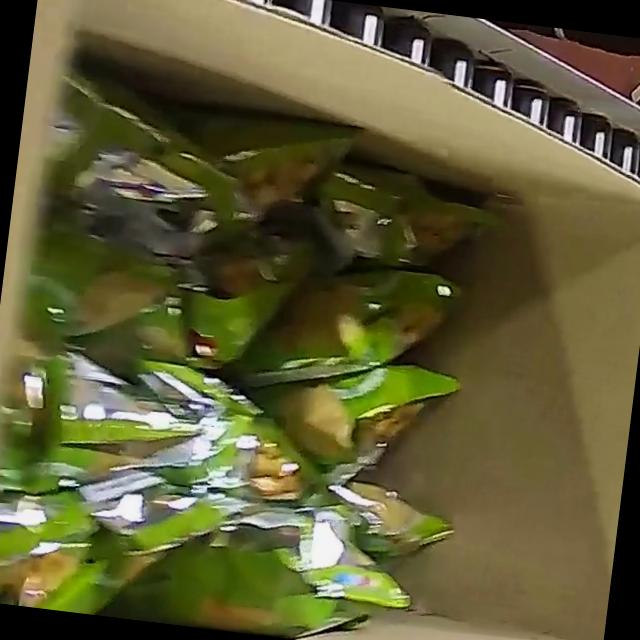yogurt: (0, 59, 521, 640)
